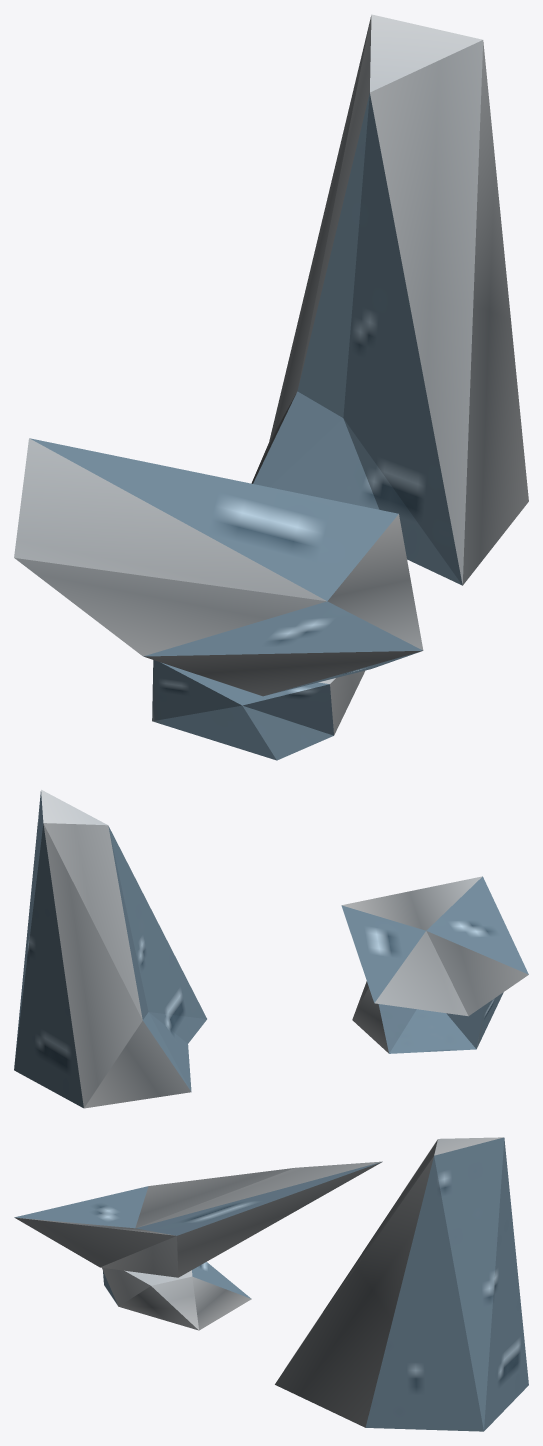
File: Piedra Mediana.fbx
3 renders of one model, top to bottom at view 1: azimuth 30°, elevation 25°; view 2: azimuth 150°, elevation 25°; view 3: azimuth 270°, elevation 25°, orthographic. The views are drawn at different scales.
Visible parts, largest first — view 1: Piedra Mediana; view 2: Piedra Mediana; view 3: Piedra Mediana.
Boxes of the visible parts, x1,y1,x2,y2 form: Piedra Mediana: (14, 14, 528, 760); Piedra Mediana: (14, 789, 528, 1108); Piedra Mediana: (14, 1137, 528, 1431).
Bounding box in the file's own units: 690 × 814 × 481.
1 material, 1 textured.
